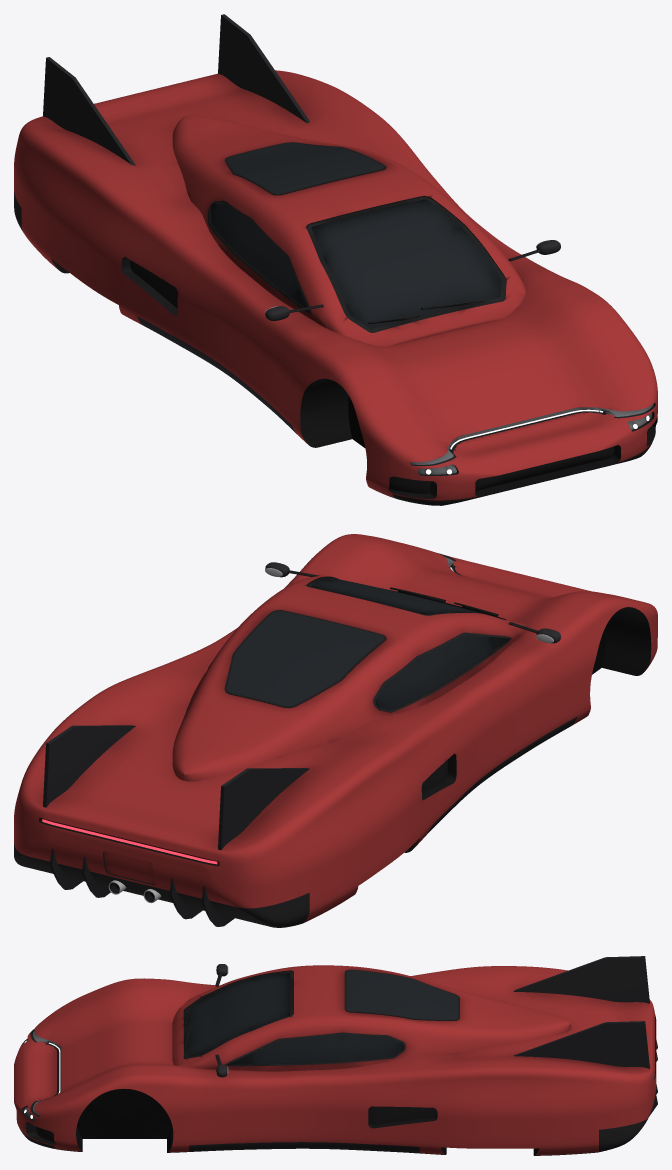
Rendered from apogee.glb.
3 renders of one model, top to bottom at view 1: azimuth 30°, elevation 25°; view 2: azimuth 150°, elevation 25°; view 3: azimuth 270°, elevation 25°, orthographic. The views are drawn at different scales.
Parts seen in each view (by area): view 1: paint, window, trim, carbon, glass, grille, head; view 2: paint, trim, carbon, glass, window, tailglow; view 3: paint, carbon, trim, window, glass, grille, head.
Part boxes in pixels (x1,y1,x2,y2): paint: [14, 70, 657, 500]; window: [210, 197, 501, 328]; trim: [14, 142, 657, 505]; carbon: [43, 14, 560, 433]; glass: [227, 143, 383, 193]; grille: [130, 260, 648, 493]; head: [410, 403, 653, 474]; paint: [14, 534, 657, 922]; trim: [14, 553, 651, 927]; carbon: [43, 562, 577, 926]; glass: [227, 611, 383, 706]; window: [311, 578, 507, 709]; tailglow: [42, 819, 217, 864]; paint: [14, 965, 656, 1155]; carbon: [189, 956, 657, 1152]; trim: [19, 969, 655, 1155]; window: [188, 971, 404, 1064]; glass: [346, 970, 457, 1019]; grille: [36, 1106, 437, 1142]; head: [24, 1031, 61, 1120].
Size of what is drawn, in the model's own units: 2.12 by 0.99 by 5.02.
